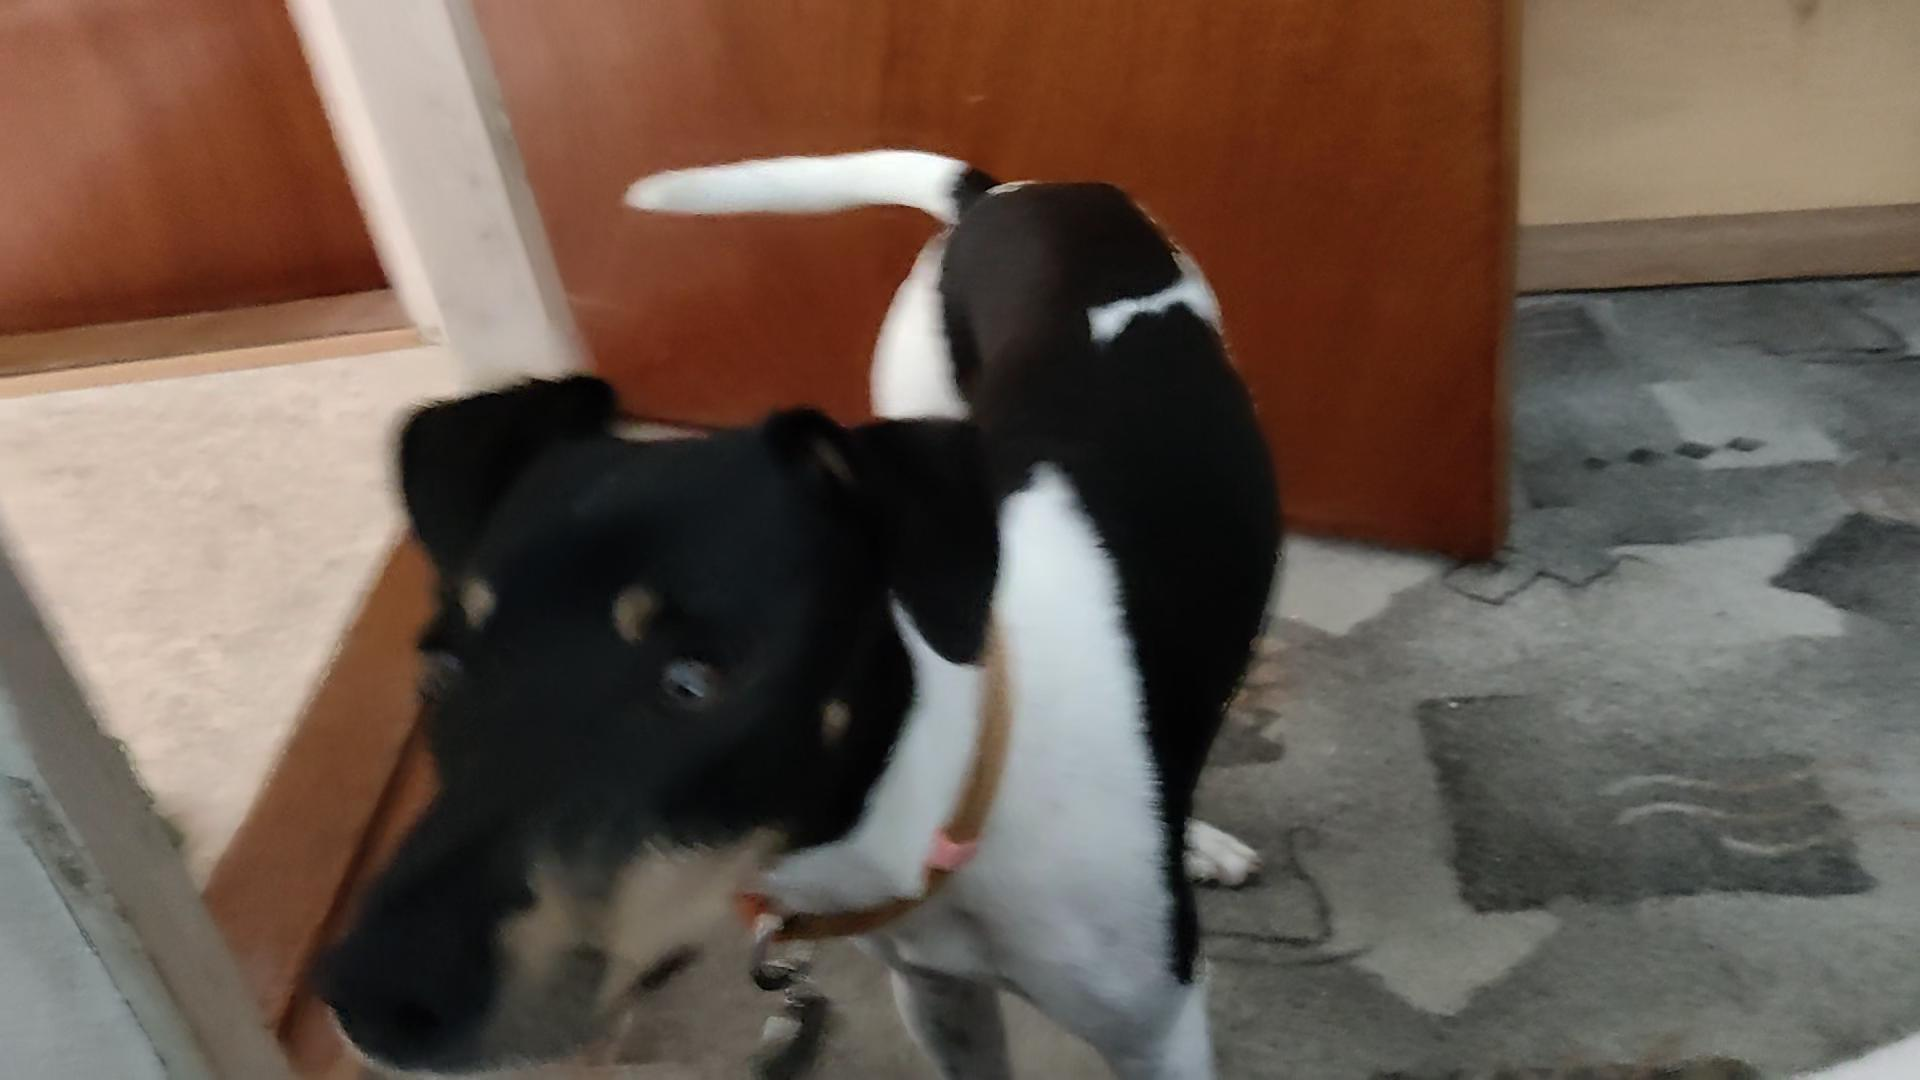Dog: (301, 140, 1295, 1079)
